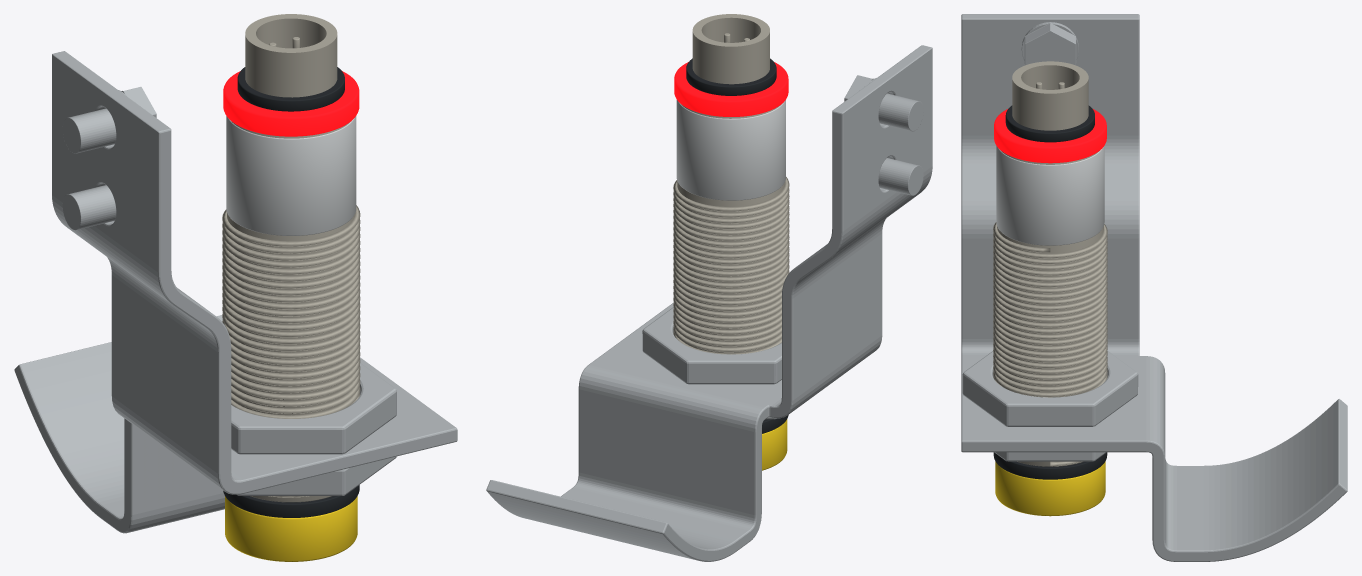
File: sensor_M18_com_suporte.glb
3 views of the same model, side by side, from view 1: azimuth 30°, elevation 25°; view 2: azimuth 150°, elevation 25°; view 3: azimuth 270°, elevation 25° (orthographic). The views are drawn at different scales.
Visible parts, largest first — view 1: Suporte_Chapa_Unica, Rosca_M18_Aproximada, Faixa_Etiqueta, Porca_M18_Superior, Conexao_Traseira_Metal, Corpo_Metalico, Face_Sensora, Luz_Indicadora, Parafuso_Fixacao_02, Porca_M18_Inferior, Aro_Frontal, Parafuso_Fixacao_01 (+1 smaller); view 2: Suporte_Chapa_Unica, Rosca_M18_Aproximada, Faixa_Etiqueta, Porca_M18_Superior, Conexao_Traseira_Metal, Corpo_Metalico, Luz_Indicadora, Parafuso_Fixacao_02, Parafuso_Fixacao_01, Base_Conexao, Face_Sensora; view 3: Suporte_Chapa_Unica, Rosca_M18_Aproximada, Faixa_Etiqueta, Porca_M18_Superior, Corpo_Metalico, Conexao_Traseira_Metal, Face_Sensora, Luz_Indicadora, Parafuso_Fixacao_02, Aro_Frontal, Base_Conexao, Porca_M18_Inferior.
Boxes of the visible parts, left/top/right/bottom form: Suporte_Chapa_Unica: left=14, top=51, right=457, bottom=533; Rosca_M18_Aproximada: left=222, top=205, right=360, bottom=497; Faixa_Etiqueta: left=226, top=116, right=356, bottom=235; Porca_M18_Superior: left=231, top=363, right=396, bottom=454; Conexao_Traseira_Metal: left=245, top=14, right=337, bottom=97; Corpo_Metalico: left=227, top=121, right=355, bottom=502; Face_Sensora: left=225, top=496, right=357, bottom=561; Luz_Indicadora: left=223, top=71, right=359, bottom=136; Parafuso_Fixacao_02: left=62, top=87, right=156, bottom=153; Porca_M18_Inferior: left=237, top=456, right=396, bottom=495; Aro_Frontal: left=223, top=485, right=359, bottom=517; Parafuso_Fixacao_01: left=62, top=185, right=116, bottom=230; Suporte_Chapa_Unica: left=486, top=45, right=932, bottom=561; Rosca_M18_Aproximada: left=673, top=177, right=789, bottom=354; Faixa_Etiqueta: left=676, top=100, right=785, bottom=200; Porca_M18_Superior: left=642, top=307, right=781, bottom=384; Conexao_Traseira_Metal: left=692, top=14, right=769, bottom=84; Corpo_Metalico: left=677, top=103, right=785, bottom=419; Luz_Indicadora: left=674, top=62, right=788, bottom=116; Parafuso_Fixacao_02: left=844, top=75, right=923, bottom=131; Parafuso_Fixacao_01: left=878, top=158, right=923, bottom=195; Base_Conexao: left=686, top=58, right=776, bottom=95; Face_Sensora: left=762, top=419, right=787, bottom=470; Suporte_Chapa_Unica: left=961, top=14, right=1347, bottom=561; Rosca_M18_Aproximada: left=993, top=222, right=1107, bottom=466; Faixa_Etiqueta: left=996, top=146, right=1104, bottom=245; Porca_M18_Superior: left=962, top=350, right=1138, bottom=426; Corpo_Metalico: left=997, top=150, right=1103, bottom=466; Conexao_Traseira_Metal: left=1012, top=61, right=1088, bottom=130; Face_Sensora: left=995, top=461, right=1105, bottom=516; Luz_Indicadora: left=994, top=109, right=1106, bottom=163; Parafuso_Fixacao_02: left=1021, top=22, right=1078, bottom=65; Aro_Frontal: left=993, top=452, right=1107, bottom=479; Base_Conexao: left=1005, top=105, right=1094, bottom=142; Porca_M18_Inferior: left=994, top=452, right=1106, bottom=461.
Size of the model in its own units: 0.05 by 0.076 by 0.0606.
